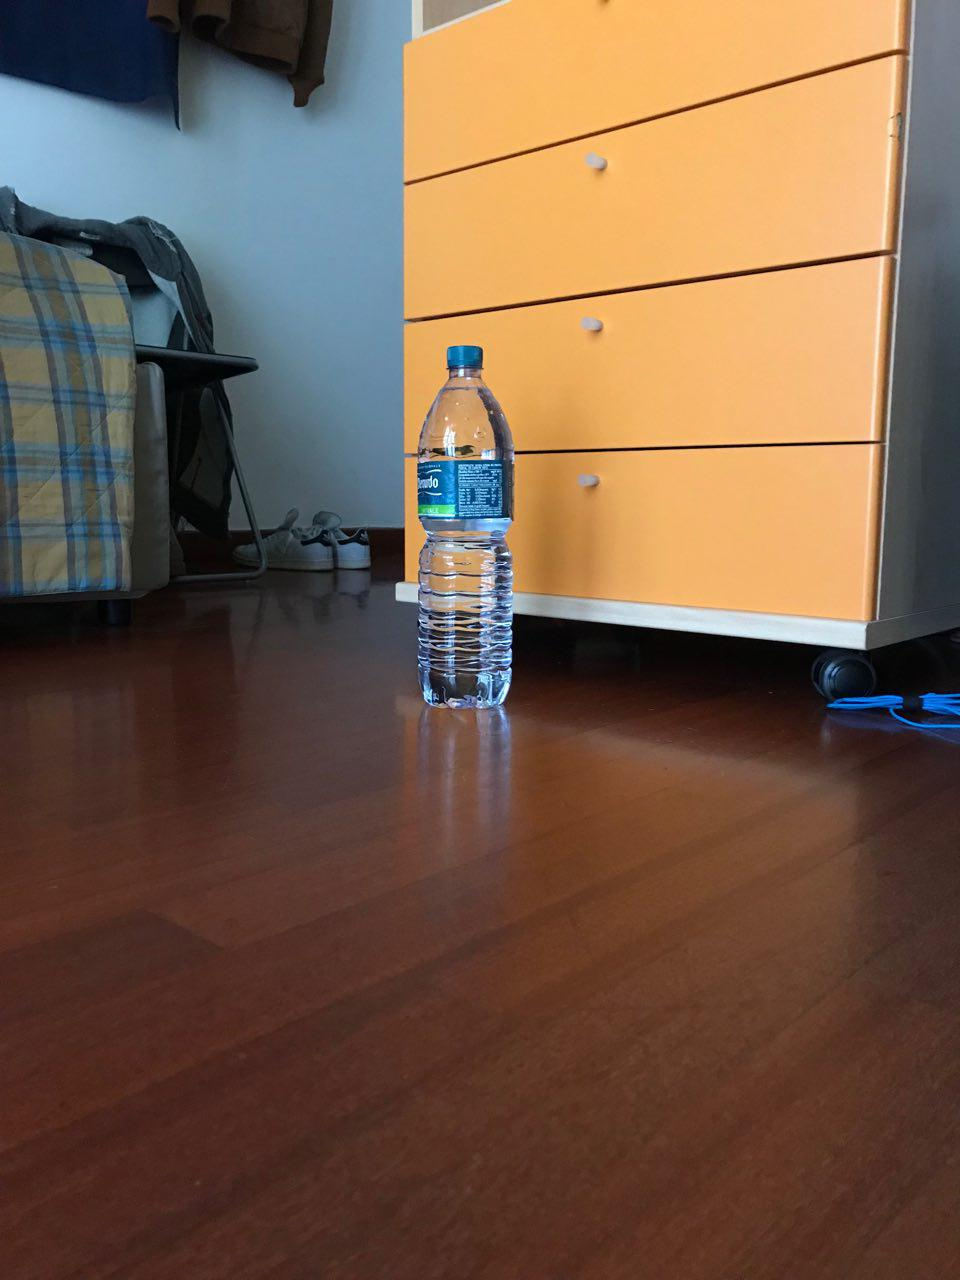san_bernardo: (415, 343, 516, 711)
